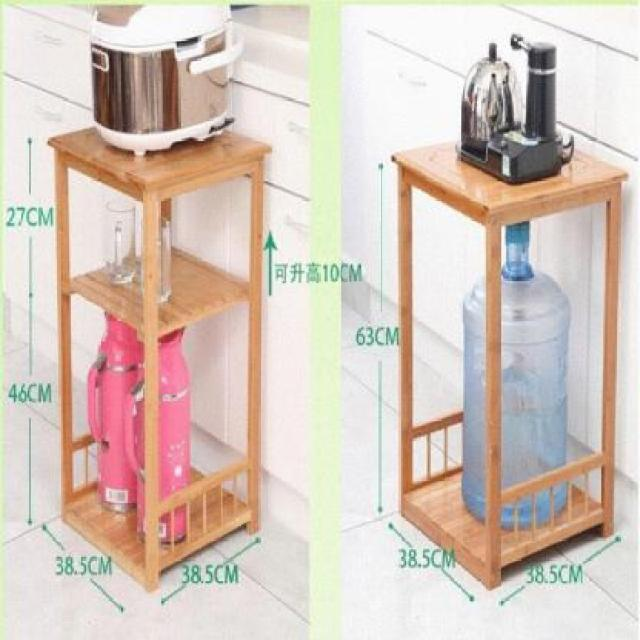coolerbottle: (463, 217, 573, 536)
